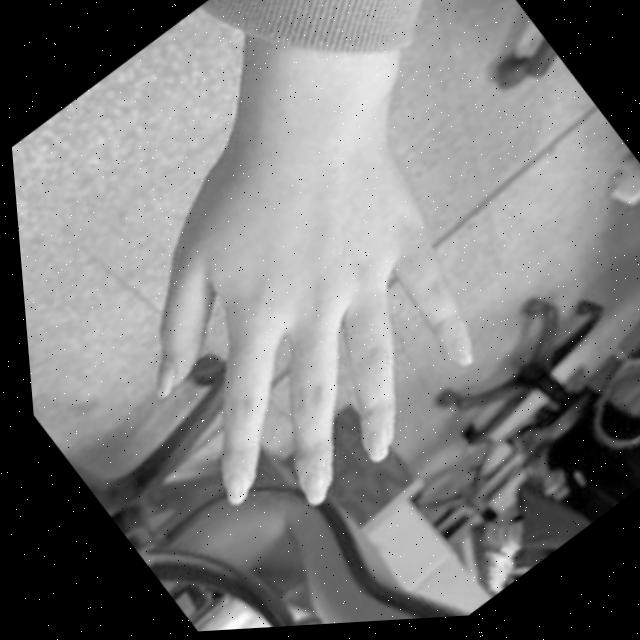hand: (41, 69, 545, 564)
